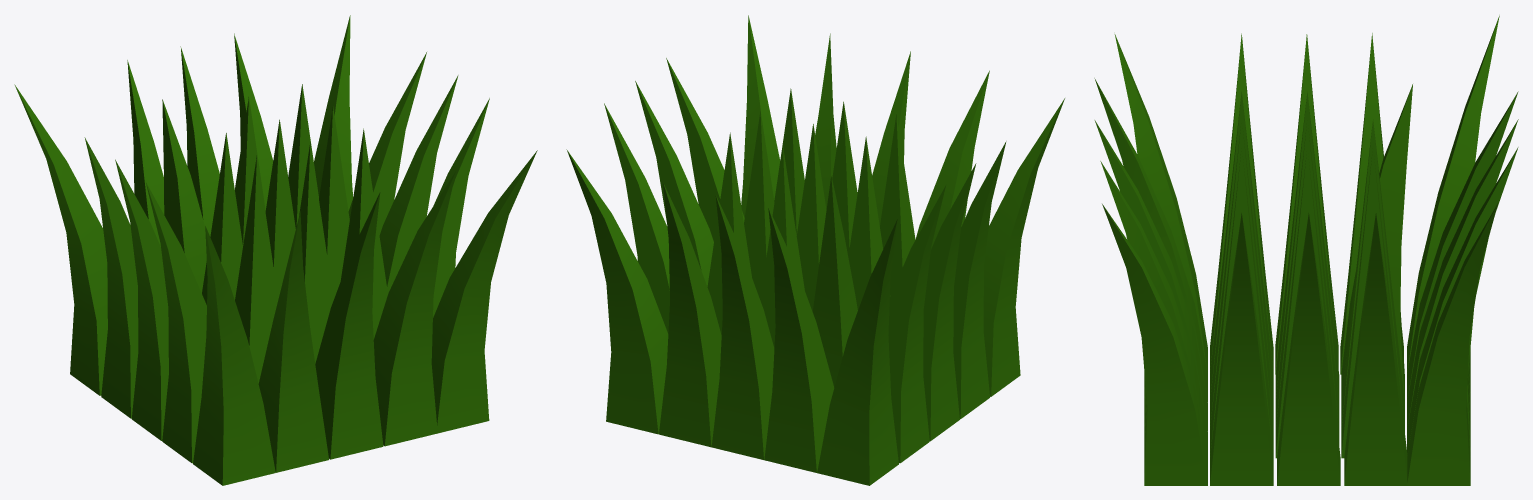
The model's file is gress.fbx.
The picture shows the model from 3 angles, left to right: view 1: azimuth 30°, elevation 25°; view 2: azimuth 150°, elevation 25°; view 3: azimuth 270°, elevation 25°; orthographic projection. The views are drawn at different scales.
Parts seen in each view (by area): view 1: Pyramid022; view 2: Pyramid022; view 3: Pyramid022.
Boxes of the visible parts, box(x1,y1,x2,y2) form: Pyramid022: box(14, 15, 537, 485); Pyramid022: box(566, 15, 1064, 485); Pyramid022: box(1094, 15, 1518, 485).
Size of the model in its own units: 26.82 by 25.98 by 21.
